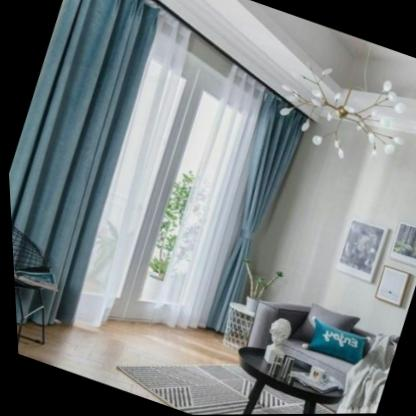Curtains: (7, 0, 325, 334)
Frame: (331, 219, 389, 284), (371, 266, 410, 308), (386, 223, 416, 269)
